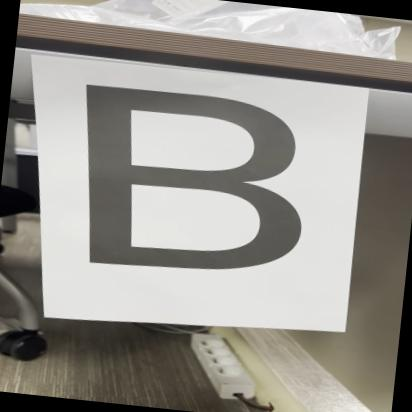seat: (52, 77, 338, 304)
